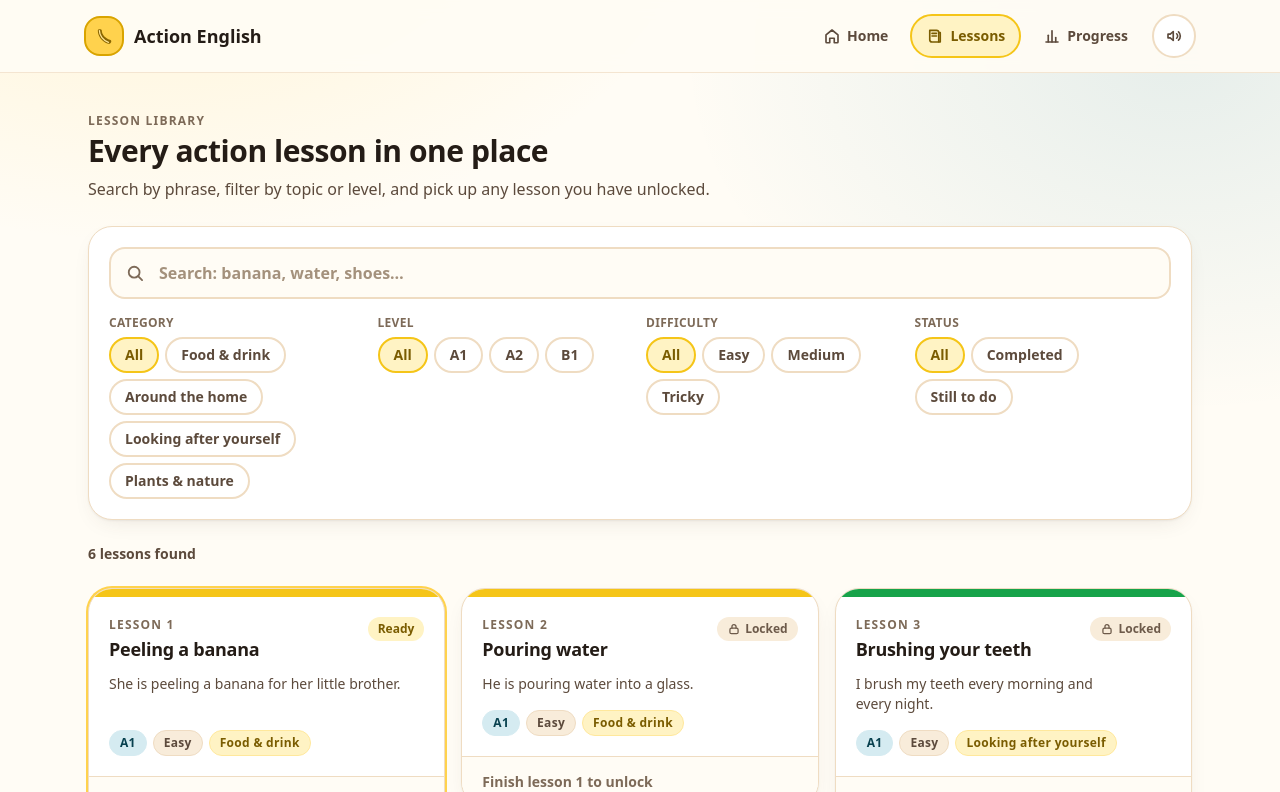
Scenario: lesson library › filters by search text
Type "banana" into the search field named "search lessons". click: (640, 273)
box: [109,247,1171,299]
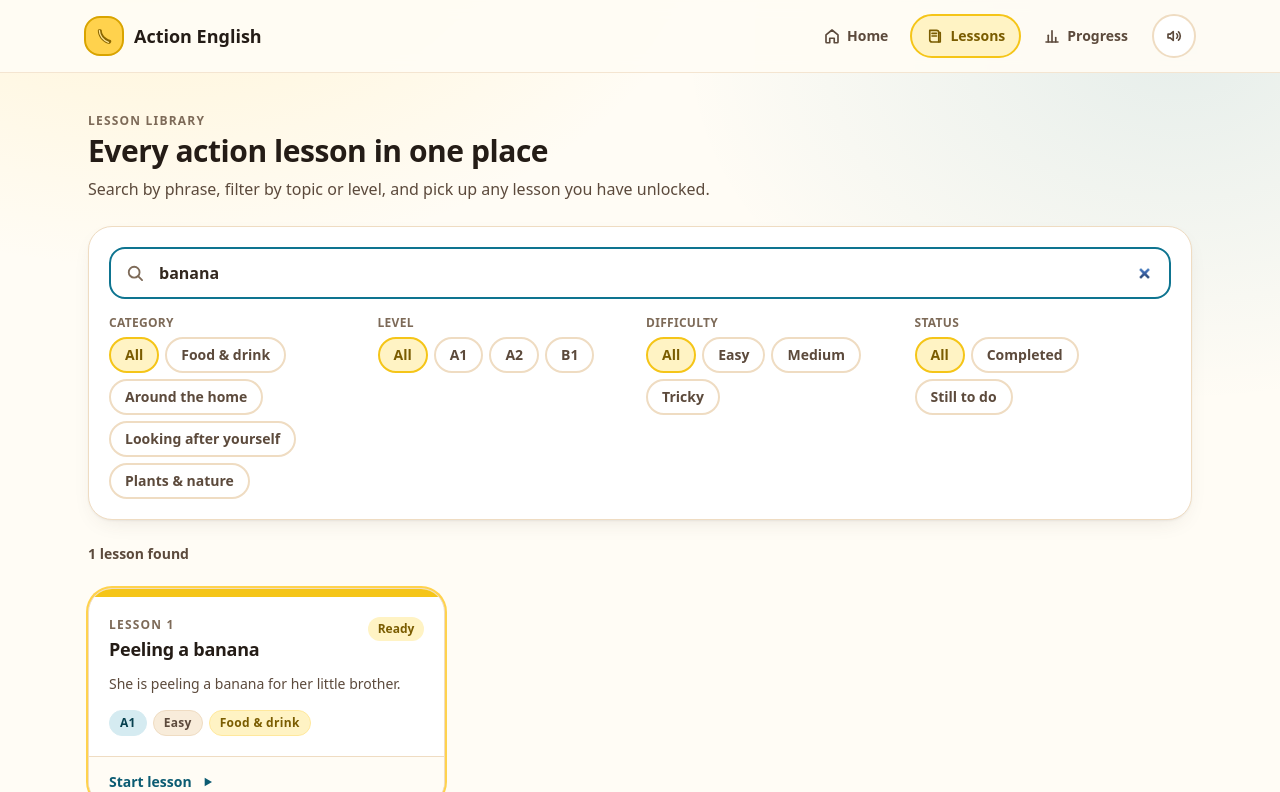
Expected: the heading "Peeling a banana" is shown, [109,637,259,662]
Expected: the message reads "1 lesson found", [88,544,189,564]
